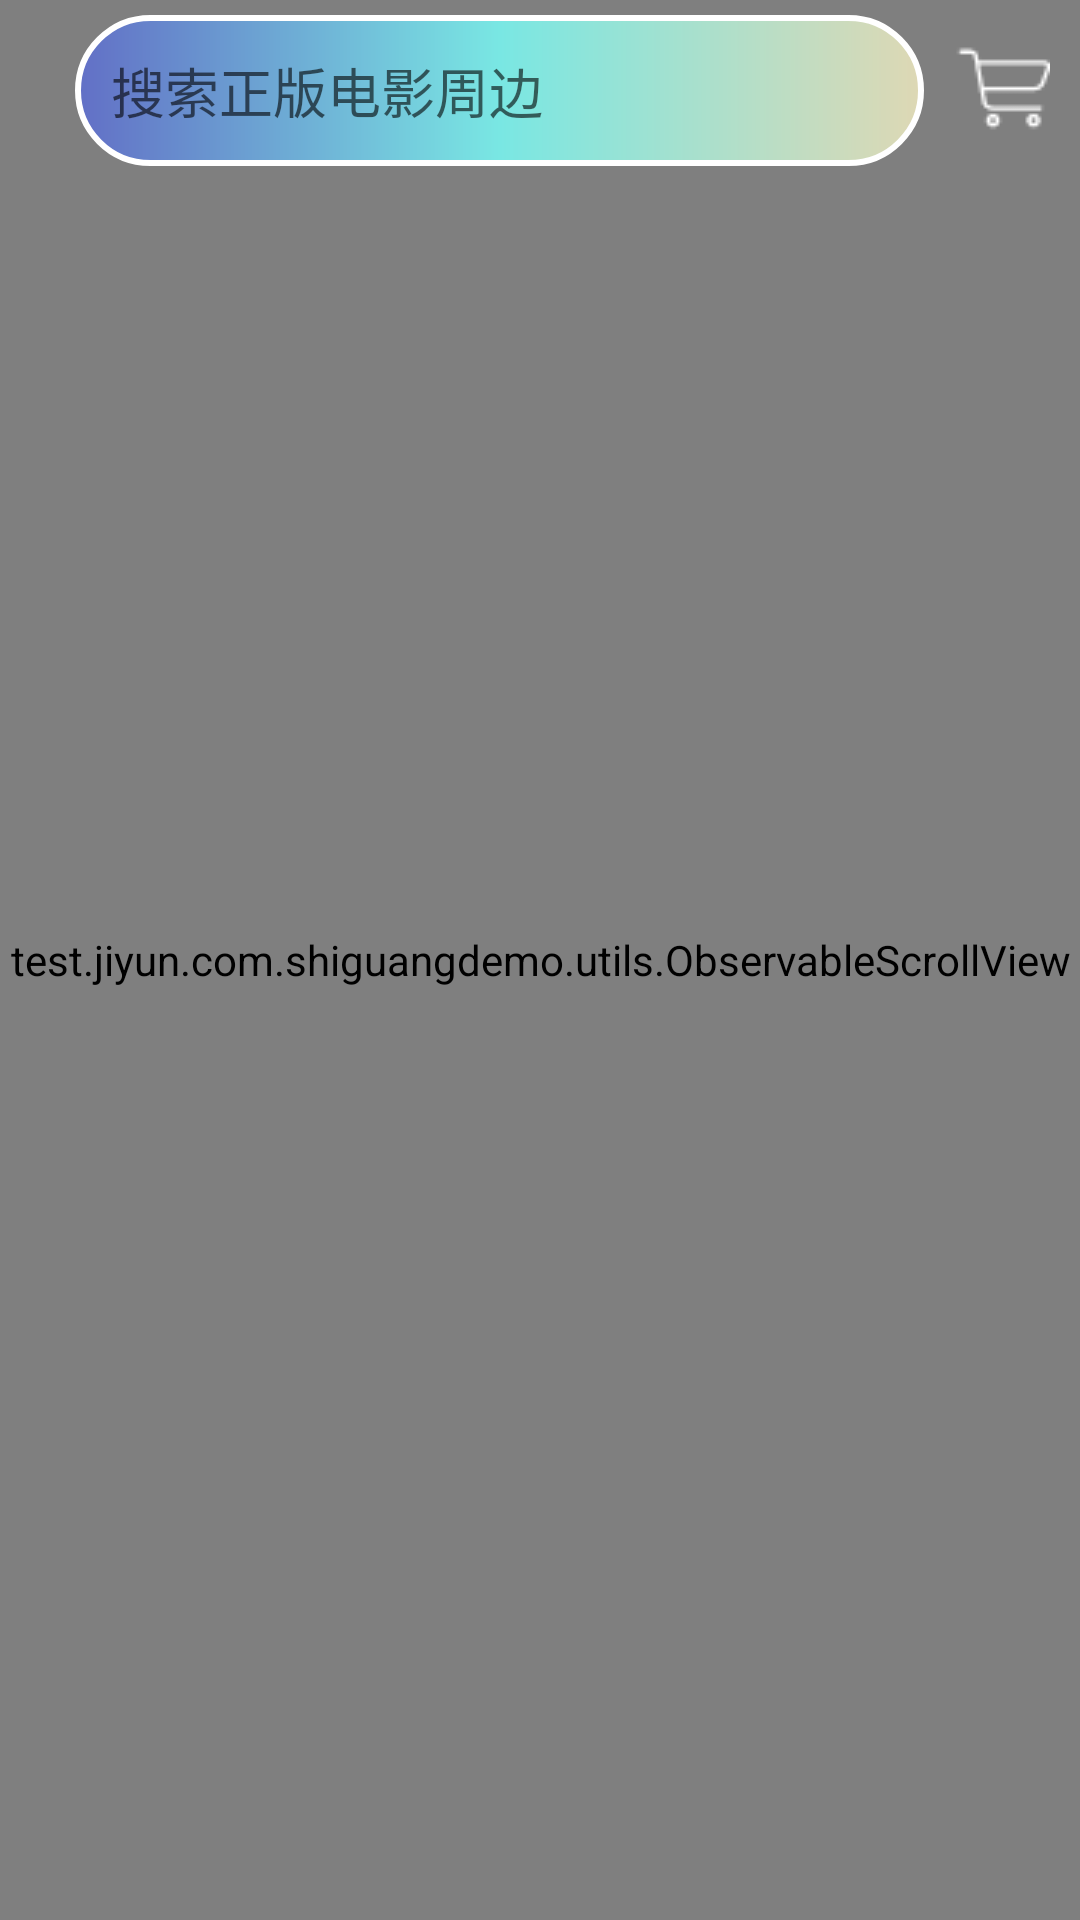

Locate icon controls on the screen. Image size 1080×1920, boxes as region(x1, y1, x2, y2).
mall cart: region(959, 48, 1050, 128)
